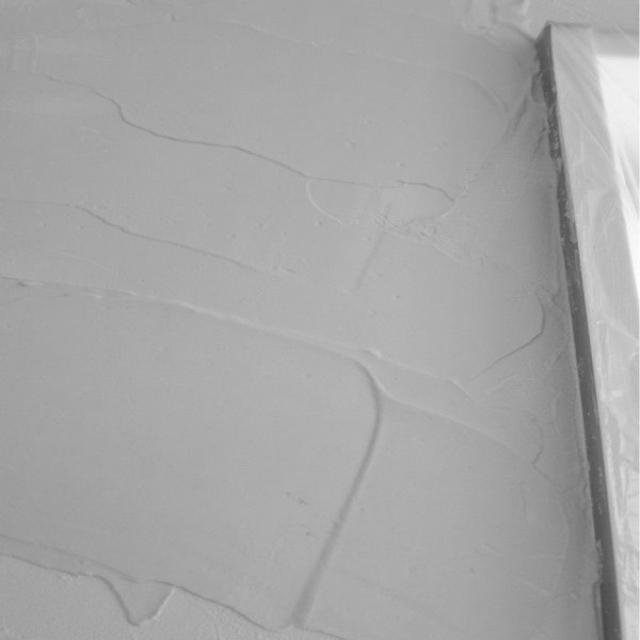trowels marks: (8, 0, 603, 640)
